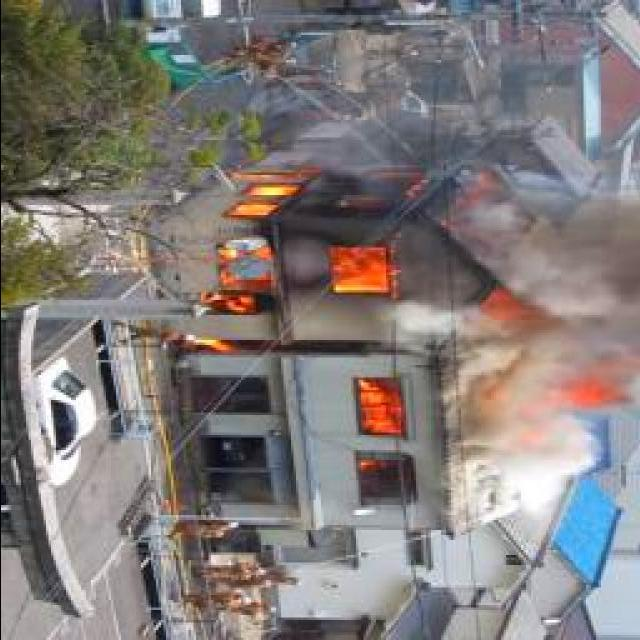Fire: (188, 176, 408, 320), (493, 363, 615, 447), (352, 382, 408, 445)
